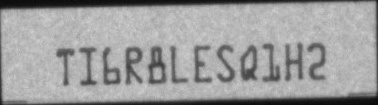1: (263, 42, 281, 81)
2: (307, 41, 326, 83)
6: (102, 45, 120, 86)
8: (147, 45, 167, 84)
E: (194, 42, 213, 84)
H: (284, 41, 304, 81)
I: (80, 47, 97, 86)
L: (168, 44, 187, 84)
Q: (239, 44, 259, 82)
R: (125, 46, 144, 85)
S: (216, 43, 234, 82)
T: (57, 47, 76, 86)
